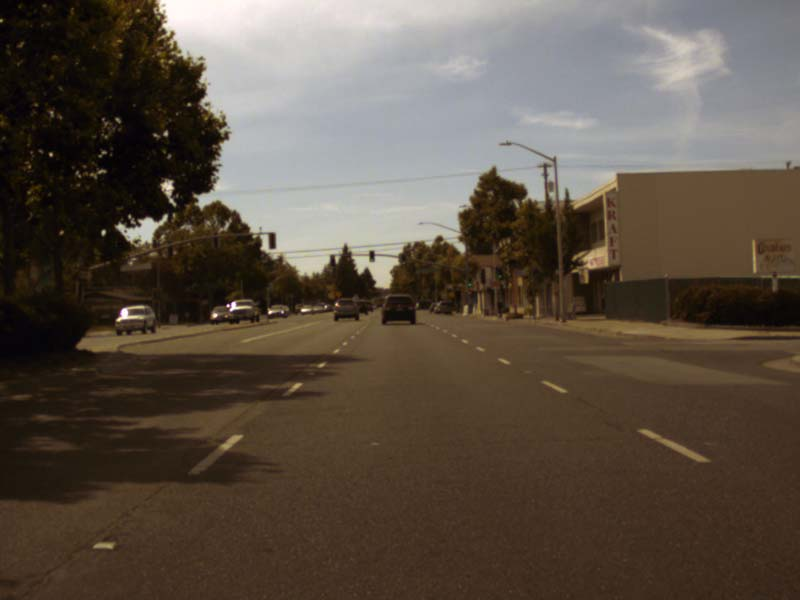Green: (496, 268, 503, 279), (400, 253, 406, 265), (467, 276, 473, 287), (369, 250, 374, 262)
